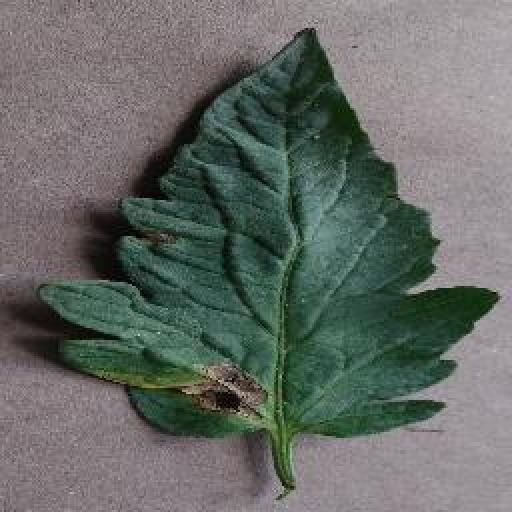disease_tomato: (36, 28, 500, 442)
